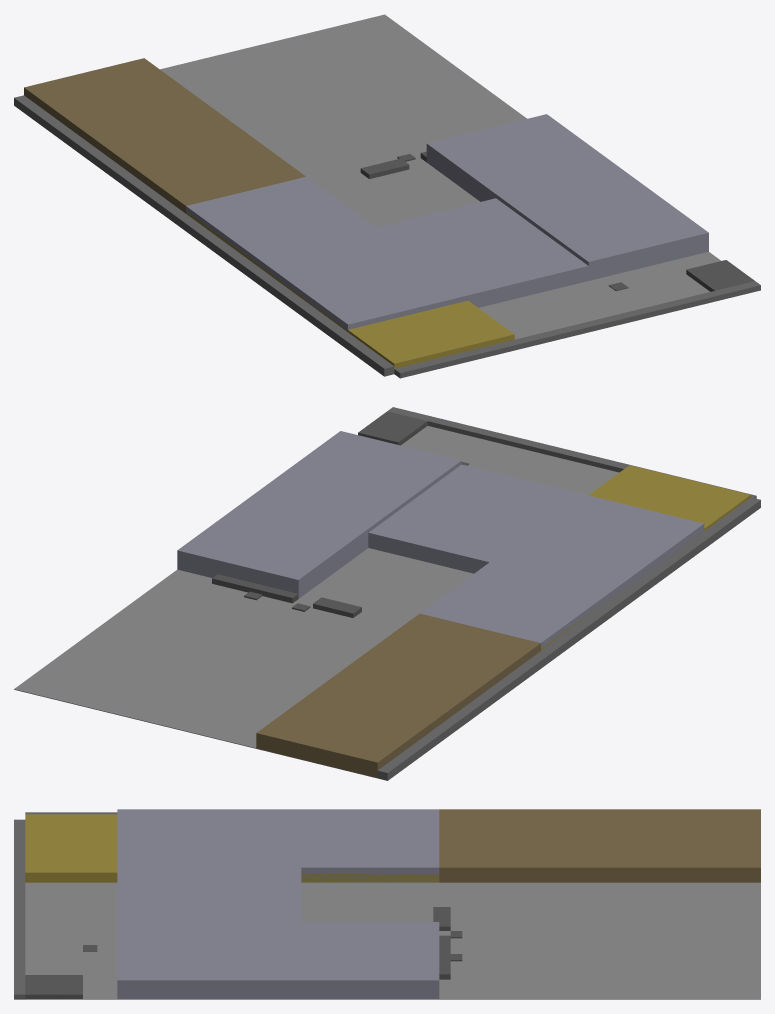
File: cw-slice.glb
3 renders of one model, top to bottom at view 1: azimuth 30°, elevation 25°; view 2: azimuth 150°, elevation 25°; view 3: azimuth 270°, elevation 25°, orthographic.
Parts seen in each view (by area): view 1: seg-ground-warehouse, bld-courtyard-e, bld-courtyard-w, bld-warehouse-w, seg-ground-courtyard, bld-courtyard-center, wall-bound-courtyard-w, bld-warehouse-service, wall-bound-courtyard-n, spawn-player-slice; view 2: seg-ground-warehouse, bld-courtyard-e, bld-warehouse-w, bld-courtyard-w, bld-courtyard-center, seg-ground-courtyard, wall-bound-courtyard-w, bld-warehouse-service, wall-bound-courtyard-n, spawn-player-slice, seg-bay-gate; view 3: seg-ground-warehouse, bld-courtyard-e, bld-warehouse-w, bld-courtyard-w, seg-ground-courtyard, bld-courtyard-center, bld-warehouse-service, wall-bound-courtyard-n, spawn-player-slice, seg-bay-gate, killzone-gate.
Part boxes in pixels (<box>): seg-ground-warehouse: <box>160,14,526,187</box>; bld-courtyard-e: <box>426,114,708,280</box>; bld-courtyard-w: <box>186,176,468,331</box>; bld-warehouse-w: <box>24,58,305,213</box>; seg-ground-courtyard: <box>322,162,720,339</box>; bld-courtyard-center: <box>376,198,588,307</box>; wall-bound-courtyard-w: <box>14,95,394,376</box>; bld-warehouse-service: <box>186,212,514,368</box>; wall-bound-courtyard-n: <box>394,281,760,378</box>; spawn-player-slice: <box>686,260,754,291</box>; seg-ground-warehouse: <box>14,569,403,778</box>; bld-courtyard-e: <box>177,431,461,598</box>; bld-warehouse-w: <box>256,613,540,777</box>; bld-courtyard-w: <box>420,494,704,650</box>; bld-courtyard-center: <box>368,464,582,573</box>; seg-ground-courtyard: <box>299,426,619,624</box>; wall-bound-courtyard-w: <box>377,497,760,780</box>; bld-warehouse-service: <box>541,465,750,650</box>; wall-bound-courtyard-n: <box>387,407,756,498</box>; spawn-player-slice: <box>358,411,427,445</box>; seg-bay-gate: <box>212,574,298,603</box>; seg-ground-warehouse: <box>439,882,760,999</box>; bld-courtyard-e: <box>117,922,439,999</box>; bld-warehouse-w: <box>439,809,760,882</box>; bld-courtyard-w: <box>117,809,439,882</box>; seg-ground-courtyard: <box>25,882,439,999</box>; bld-courtyard-center: <box>117,867,301,921</box>; bld-warehouse-service: <box>25,814,439,882</box>; wall-bound-courtyard-n: <box>14,819,25,999</box>; spawn-player-slice: <box>25,975,82,999</box>; seg-bay-gate: <box>439,935,450,979</box>; killzone-gate: <box>433,907,450,930</box>.
Bounding box in the file's own units: 296 × 15 × 520.
